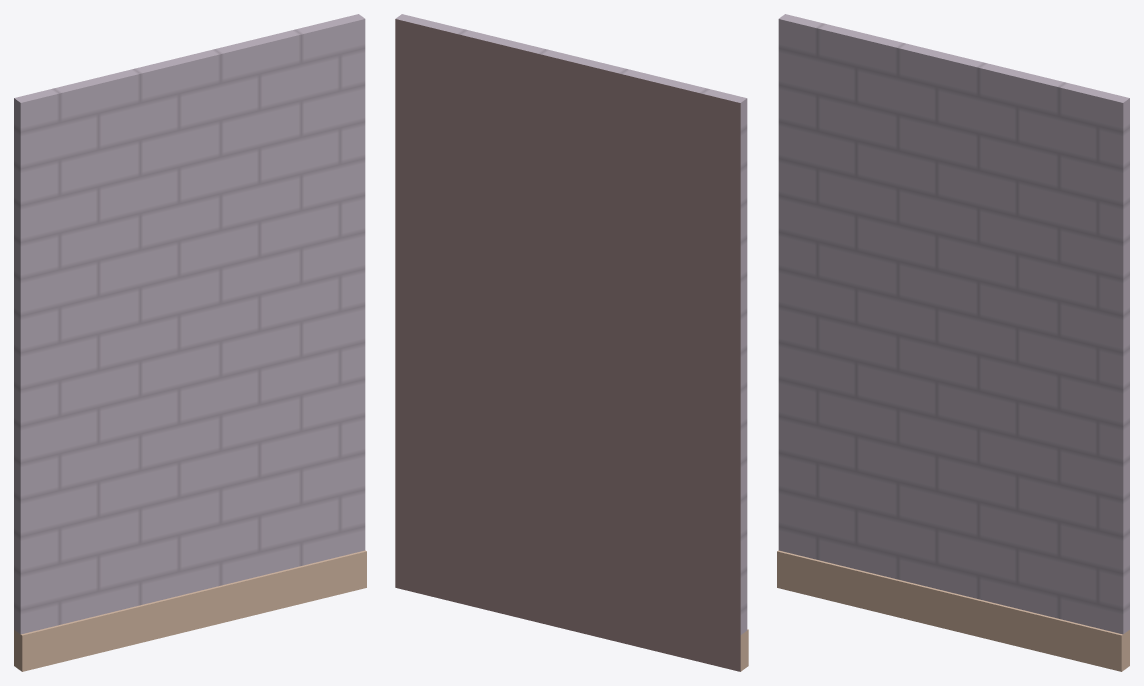
Rendered from SM_Wall_3_09.fbx.
3 views of the same model, side by side, from view 1: azimuth 30°, elevation 25°; view 2: azimuth 150°, elevation 25°; view 3: azimuth 330°, elevation 25° (orthographic).
Visible parts, largest first — view 1: SM_Wall_3_09; view 2: SM_Wall_3_09; view 3: SM_Wall_3_09.
Part boxes in pixels (x1,y1,x2,y2): SM_Wall_3_09: (14, 14, 366, 671); SM_Wall_3_09: (395, 14, 748, 671); SM_Wall_3_09: (777, 14, 1129, 671).
Bounding box in the file's own units: 188 × 295 × 7.68.
